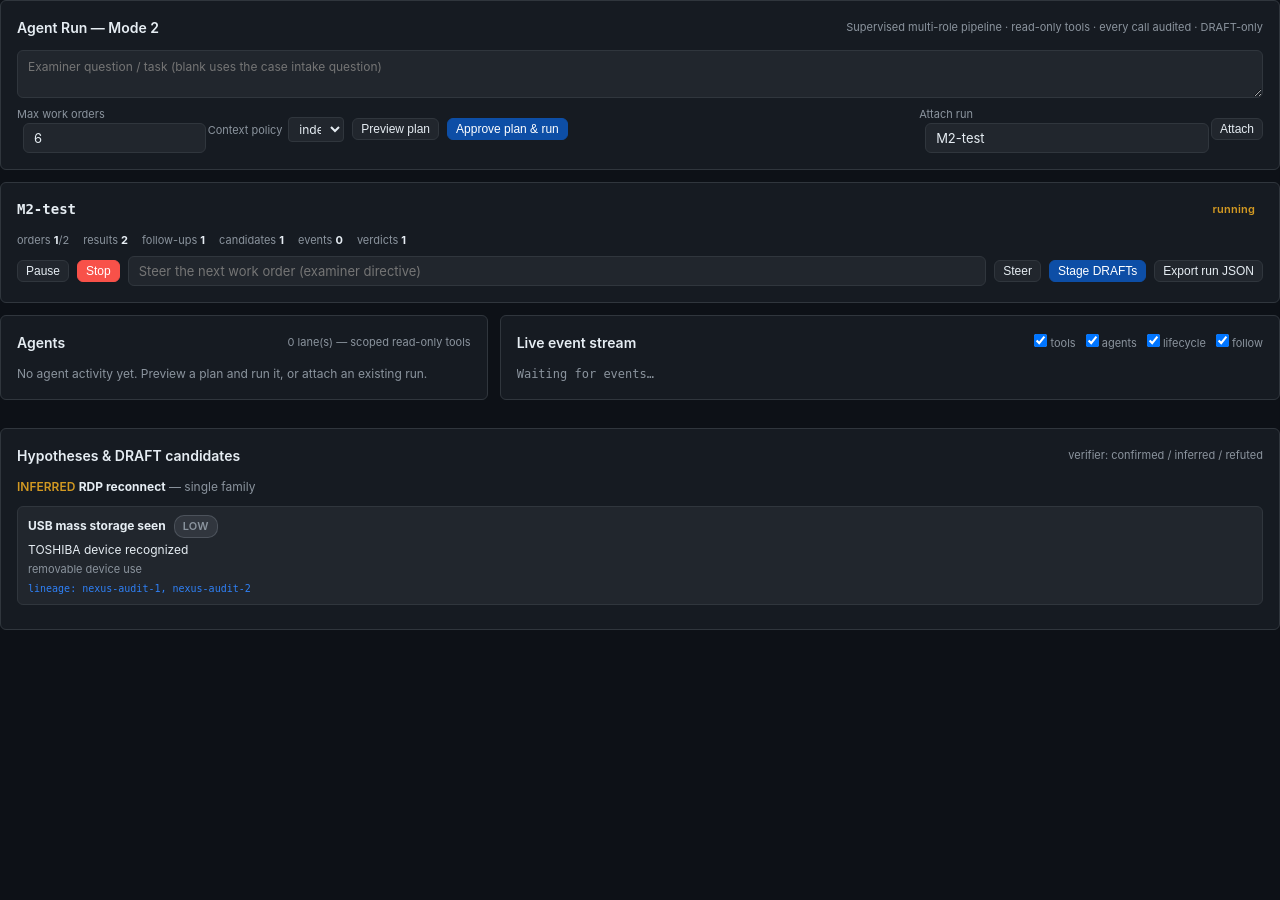
Test: AgentRun (Mode 3) › previews a plan before running
The width and height of the screenshot is (1280, 900).
Click the button "Preview plan": (396, 129) left=352, top=118, right=439, bottom=140
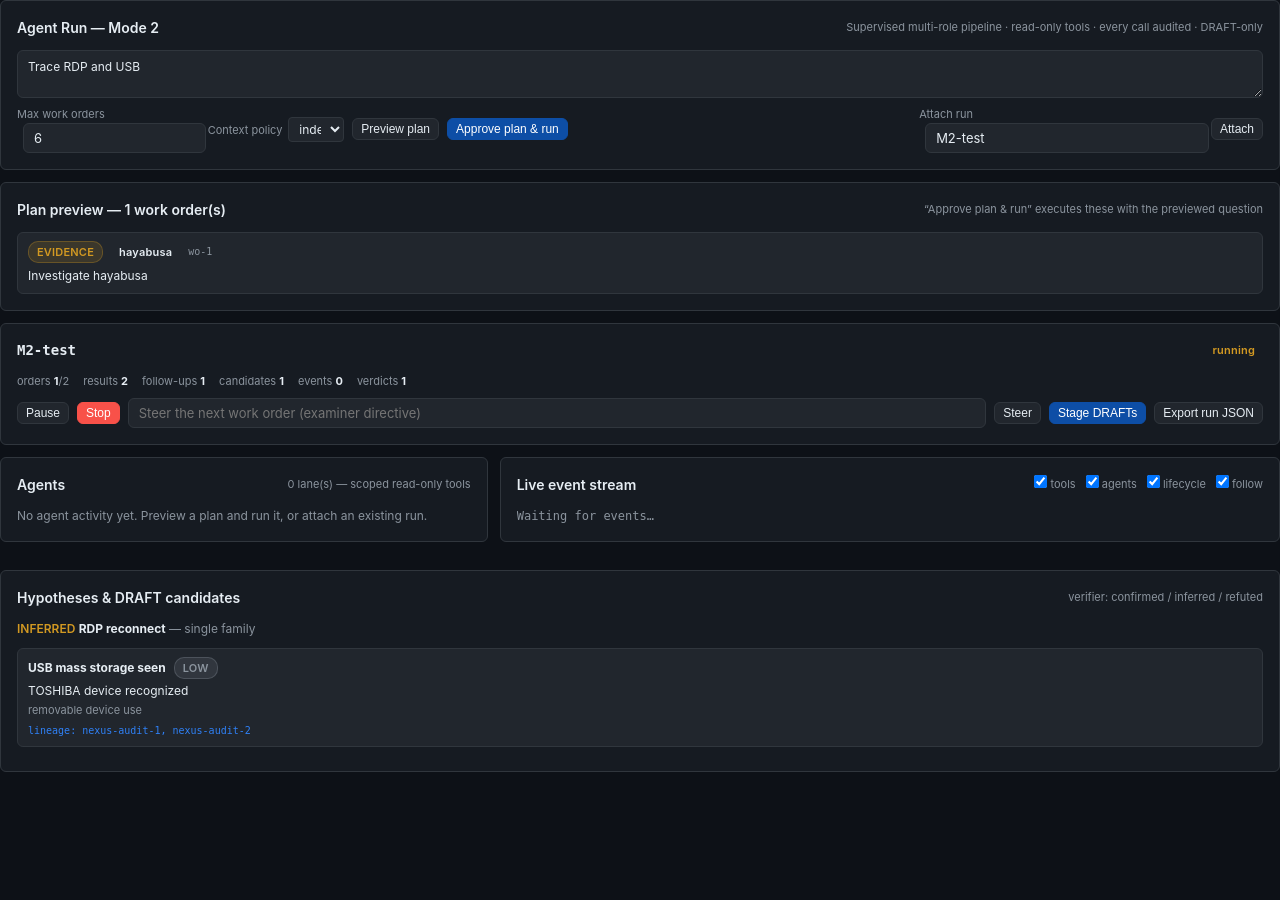
Check: the text "Investigate hayabusa" is shown, box left=28, top=268, right=148, bottom=283
Check: the text "wo-1" is shown, box left=188, top=244, right=212, bottom=259
